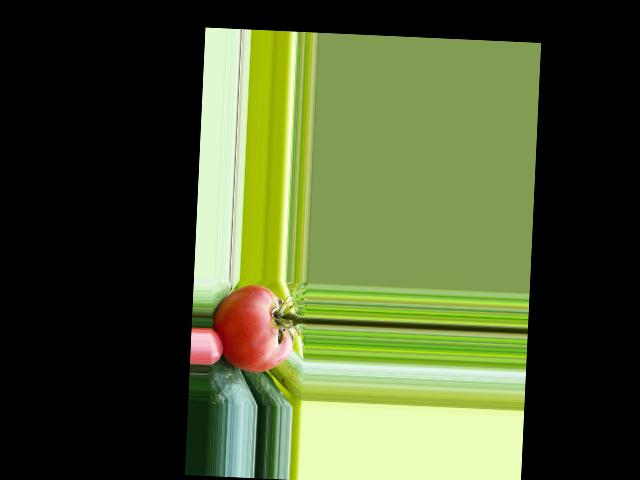tomato: (210, 283, 295, 373)
